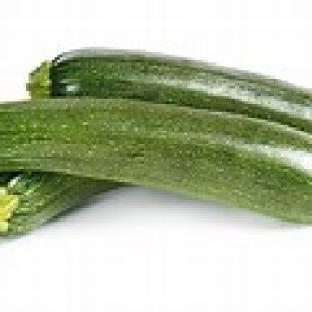Zucchini: (0, 99, 311, 221), (29, 50, 311, 132), (0, 172, 114, 234)
